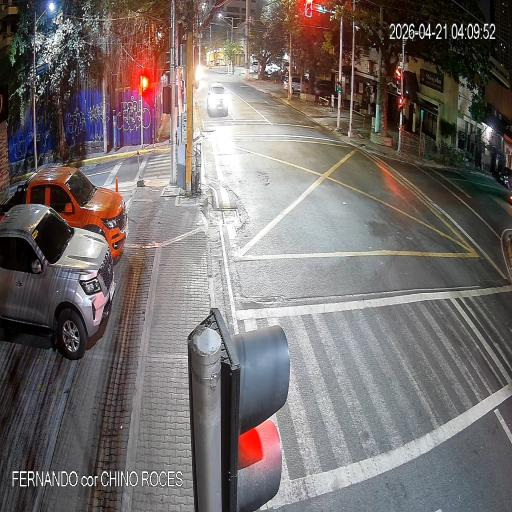Car: (0, 203, 126, 379), (17, 170, 140, 271), (204, 80, 233, 128)
